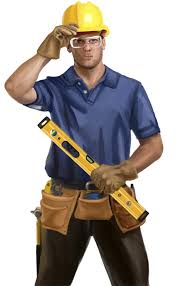Person_wearing_helmet: (57, 0, 113, 49)
